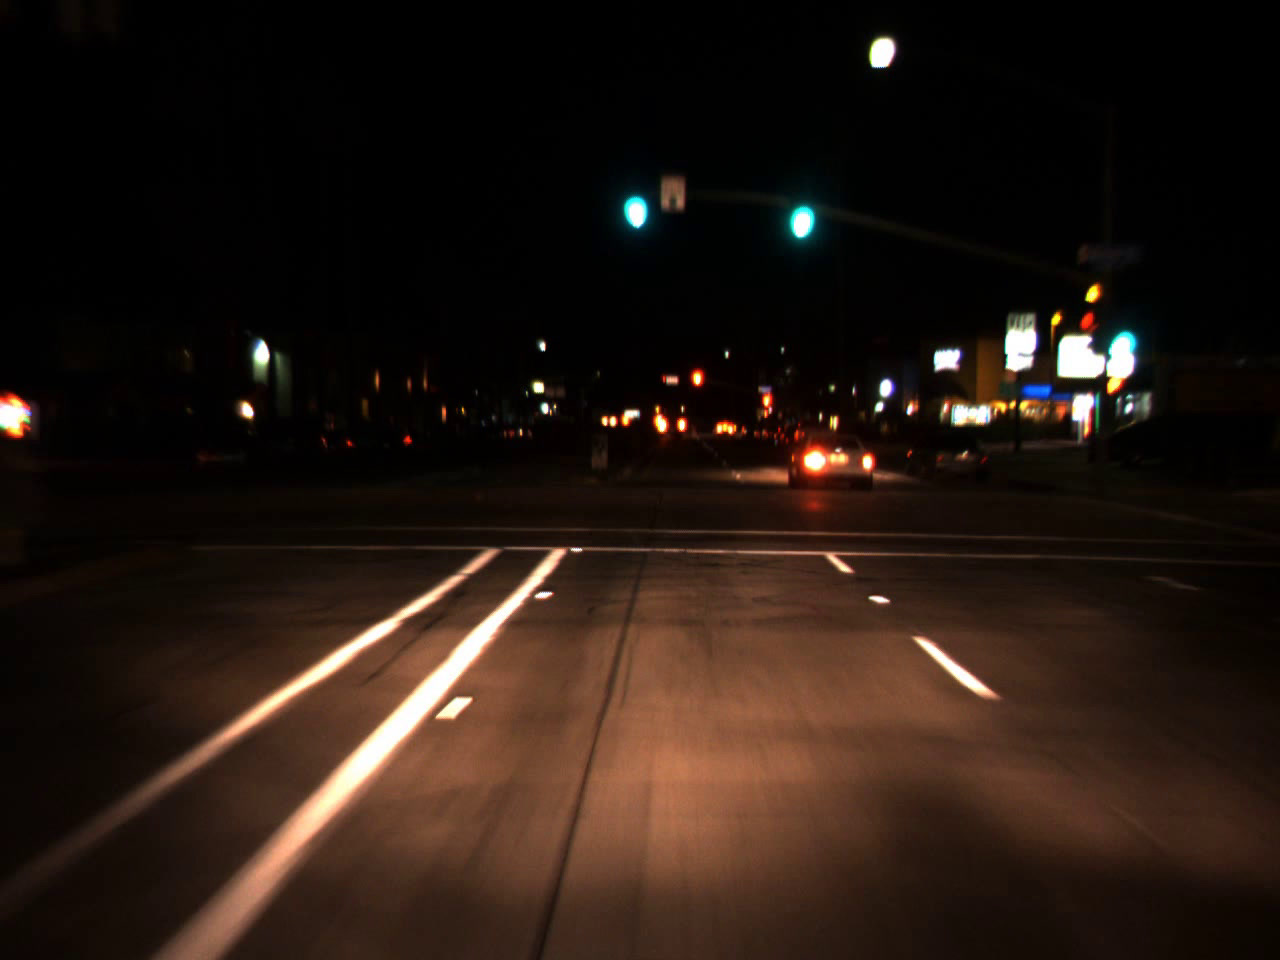go: (779, 165, 820, 249), (614, 156, 653, 237), (1103, 314, 1137, 359)
stop: (689, 367, 705, 407), (761, 390, 773, 427)
